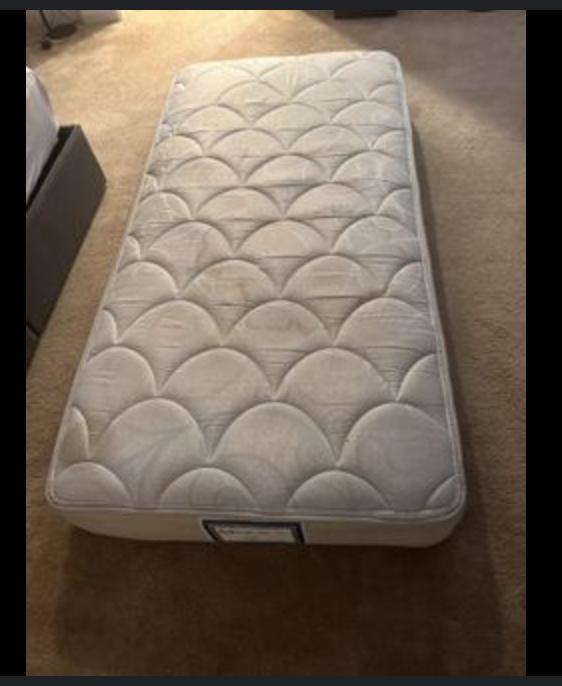Bed-Mattress: (35, 45, 484, 554)
